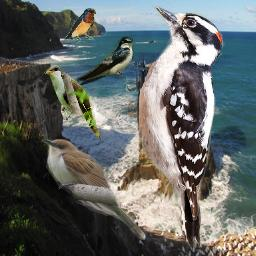Cuckoo: (42, 139, 146, 240), (42, 65, 105, 140)
Swallow: (77, 36, 134, 86), (64, 8, 96, 40)
Woodpecker: (126, 5, 225, 254)
